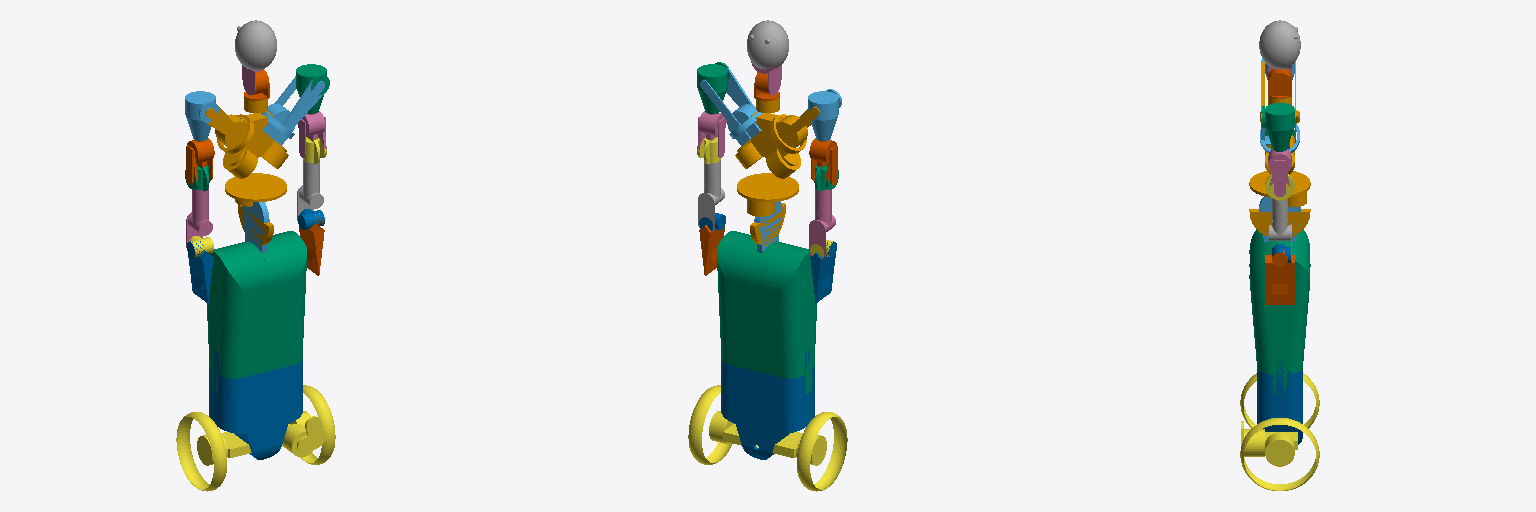
--- What the picture shows (computed from the rendered views, not written in the file) ---
Views: 3 orthographic renders of the robot side by side, from view 1: azimuth 30°, elevation 25°; view 2: azimuth 150°, elevation 25°; view 3: azimuth 270°, elevation 25°.
Model pre-robody with 23 links and 22 joints (17 revolute, 5 fixed), rooted at WheelBase, posed every joint at zero.
Links seen in each view (by area): view 1: UpperLeg, LowerLeg, WheelBase, Torso, Spine, Shoulder_1_Right, Head, Shoulder_1_Left, Shoulder_2_Left, EndEffector_Left, LowerArm_Right, LowerArm_Left (+5 smaller); view 2: UpperLeg, LowerLeg, WheelBase, Spine, Torso, Shoulder_1_Right, Head, Shoulder_1_Left, Shoulder_2_Left, LowerArm_Right, LowerArm_Left, Shoulder_2_Right (+4 smaller); view 3: UpperLeg, WheelBase, LowerLeg, Spine, Head, EndEffector_Right, Shoulder_2_Right, UpperArm_Right, LowerArm_Right, NeckSegment_1.
Boxes of the visible links, box(x1,y1,x2,y2) form: UpperLeg: box(207, 231, 306, 393); LowerLeg: box(209, 350, 302, 459); WheelBase: box(176, 385, 335, 491); Torso: box(223, 98, 288, 201); Spine: box(225, 173, 286, 244); Shoulder_1_Right: box(261, 76, 324, 145); Head: box(235, 20, 276, 70); Shoulder_1_Left: box(205, 106, 257, 155); Shoulder_2_Left: box(185, 91, 218, 140); EndEffector_Left: box(187, 241, 213, 302); LowerArm_Right: box(297, 160, 323, 220); LowerArm_Left: box(186, 188, 212, 247); UpperLeg: box(717, 231, 816, 393); LowerLeg: box(721, 350, 814, 459); WheelBase: box(688, 385, 847, 491); Spine: box(737, 173, 798, 245); Torso: box(735, 98, 800, 201); Shoulder_1_Right: box(700, 68, 762, 145); Head: box(747, 20, 788, 69); Shoulder_1_Left: box(765, 107, 819, 155); Shoulder_2_Left: box(808, 89, 841, 140); LowerArm_Right: box(698, 160, 724, 231); LowerArm_Left: box(809, 188, 835, 259); Shoulder_2_Right: box(697, 62, 729, 113); UpperLeg: box(1249, 229, 1310, 393); WheelBase: box(1240, 373, 1319, 490); LowerLeg: box(1257, 356, 1302, 444); Spine: box(1249, 171, 1310, 236); Head: box(1259, 20, 1300, 69); EndEffector_Right: box(1265, 250, 1294, 304); Shoulder_2_Right: box(1262, 103, 1294, 151); UpperArm_Right: box(1268, 149, 1291, 196); LowerArm_Right: box(1269, 198, 1291, 263); NeckSegment_1: box(1268, 69, 1291, 98).
Size in the robot's own frame: 0.508 by 0.2599 by 1.6 metres.
Meshes: 23 distinct files referenced, 23 mesh visuals loaded (23 binary STL).

robot.urdf — pre-robody:
<?xml version="1.0" ?>
<robot name="pre-robody">
  <joint name="Ankle_Y" type="fixed">
    <parent link="WheelBase"/>
    <child link="LowerLeg"/>
    <origin xyz="0 0 0" rpy="0 0 0"/>
    <axis xyz="0 1 0"/>
    <limit lower="-0.17453292519943295" upper="0.17453292519943295" effort="0.0" velocity="0.0"/>
  </joint>
  <joint name="Knee_X" type="fixed">
    <parent link="LowerLeg"/>
    <child link="UpperLeg"/>
    <origin xyz="0.15 0   0.27" rpy="0 0 0"/>
    <axis xyz="1 0 0"/>
    <limit lower="-0.0" upper="2.0943951023931953" effort="0.0" velocity="0.0"/>
  </joint>
  <joint name="Hip_X_Lower" type="fixed">
    <parent link="UpperLeg"/>
    <child link="Hip"/>
    <origin xyz="-0.14  0    0.32" rpy="0 0 0"/>
    <axis xyz="1 0 0"/>
    <limit lower="-1.5707963267948966" upper="0.04363323129985824" effort="0.0" velocity="0.0"/>
  </joint>
  <joint name="Hip_X_Upper" type="fixed">
    <parent link="Hip"/>
    <child link="Spine"/>
    <origin xyz="0  0  0.2" rpy="0 0 0"/>
    <axis xyz="-1  0  0"/>
    <limit lower="-0.0" upper="1.5707963267948966" effort="0.0" velocity="0.0"/>
  </joint>
  <joint name="Spine-Torso_Z" type="fixed">
    <parent link="Spine"/>
    <child link="Torso"/>
    <origin xyz="-0.01  0    0.1" rpy="0 0 0"/>
    <axis xyz="0 0 1"/>
    <limit lower="-1.0471975511965976" upper="1.0471975511965976" effort="0.0" velocity="0.0"/>
  </joint>
  <joint name="Neck1_Z" type="revolute">
    <parent link="Torso"/>
    <child link="NeckSegment_1"/>
    <origin xyz="0      0      0.32038" rpy="0 0 0"/>
    <axis xyz="0 0 1"/>
    <limit lower="-1.5707963267948966" upper="1.5707963267948966" effort="0.0" velocity="0.0"/>
  </joint>
  <joint name="Neck2_X" type="revolute">
    <parent link="NeckSegment_1"/>
    <child link="NeckSegment_2"/>
    <origin xyz="-0.02225  0       0.0495" rpy="0 0 0"/>
    <axis xyz="1 0 0"/>
    <limit lower="-1.0471975511965976" upper="0.7853981633974483" effort="0.0" velocity="0.0"/>
  </joint>
  <joint name="Neck3_Y" type="revolute">
    <parent link="NeckSegment_2"/>
    <child link="Head"/>
    <origin xyz="0.02225 -0.02225  0.084" rpy="0 0 0"/>
    <axis xyz="0 -1  0"/>
    <limit lower="-0.2617993877991494" upper="0.2617993877991494" effort="0.0" velocity="0.0"/>
  </joint>
  <joint name="Shoulder2_Right" type="revolute">
    <parent link="Shoulder_1_Right"/>
    <child link="Shoulder_2_Right"/>
    <origin xyz="0.16754 -0.058    0.16754" rpy="0 0 0"/>
    <axis xyz="0 1 0"/>
    <limit lower="-2.0943951023931953" upper="0.0" effort="0.0" velocity="0.0"/>
  </joint>
  <joint name="Shoulder1_Right" type="revolute">
    <parent link="Torso"/>
    <child link="Shoulder_1_Right"/>
    <origin xyz="0.03745 0      0.16445" rpy="0 0 0"/>
    <axis xyz="-0.7071  0     -0.7071"/>
    <limit lower="-2.6179938779914944" upper="0.7853981633974483" effort="0.0" velocity="0.0"/>
  </joint>
  <joint name="Shoulder3_Right" type="revolute">
    <parent link="Shoulder_2_Right"/>
    <child link="UpperArm_Right"/>
    <origin xyz="0     0.058 -0.029" rpy="0 0 0"/>
    <axis xyz="0  0 -1"/>
    <limit lower="-1.5707963267948966" upper="1.5707963267948966" effort="0.0" velocity="0.0"/>
  </joint>
  <joint name="Elbow1_X_Right" type="revolute">
    <parent link="UpperArm_Right"/>
    <child link="ElbowSegment_Right"/>
    <origin xyz="0.037   0     -0.2206" rpy="0 0 0"/>
    <axis xyz="-1  0  0"/>
    <limit lower="-2.2689280275926285" upper="0.0" effort="0.0" velocity="0.0"/>
  </joint>
  <joint name="Elbow2_Z_Right" type="revolute">
    <parent link="ElbowSegment_Right"/>
    <child link="LowerArm_Right"/>
    <origin xyz="-0.037    0      -0.03535" rpy="0 0 0"/>
    <axis xyz="0 0 1"/>
    <limit lower="-1.5707963267948966" upper="1.5707963267948966" effort="0.0" velocity="0.0"/>
  </joint>
  <joint name="Wrist1_Y_Right" type="revolute">
    <parent link="LowerArm_Right"/>
    <child link="Wrist_Right"/>
    <origin xyz="0       0.04034 -0.21425" rpy="0 0 0"/>
    <axis xyz="0 -1  0"/>
    <limit lower="-0.6981317007977318" upper="0.5235987755982988" effort="0.0" velocity="0.0"/>
  </joint>
  <joint name="Wrist2_X_Right" type="revolute">
    <parent link="Wrist_Right"/>
    <child link="EndEffector_Right"/>
    <origin xyz="0.03535 -0.04034  0" rpy="0 0 0"/>
    <axis xyz="-1  0  0"/>
    <limit lower="-0.3490658503988659" upper="0.6981317007977318" effort="0.0" velocity="0.0"/>
  </joint>
  <joint name="Shoulder1_Left" type="revolute">
    <parent link="Torso"/>
    <child link="Shoulder_1_Left"/>
    <origin xyz="-0.03745  0       0.16445" rpy="0 0 0"/>
    <axis xyz="-0.7071  0      0.7071"/>
    <limit lower="-2.6179938779914944" upper="0.7853981633974483" effort="0.0" velocity="0.0"/>
  </joint>
  <joint name="Shoulder2_Left" type="revolute">
    <parent link="Shoulder_1_Left"/>
    <child link="Shoulder_2_Left"/>
    <origin xyz="-0.16754 -0.058    0.16754" rpy="0 0 0"/>
    <axis xyz="0 -1  0"/>
    <limit lower="-2.0943951023931953" upper="0.0" effort="0.0" velocity="0.0"/>
  </joint>
  <joint name="Shoulder3_Left" type="revolute">
    <parent link="Shoulder_2_Left"/>
    <child link="UpperArm_Left"/>
    <origin xyz="0     0.058 -0.029" rpy="0 0 0"/>
    <axis xyz="0 0 1"/>
    <limit lower="-1.5707963267948966" upper="1.5707963267948966" effort="0.0" velocity="0.0"/>
  </joint>
  <joint name="Elbow1_X_Left" type="revolute">
    <parent link="UpperArm_Left"/>
    <child link="ElbowSegment_Left"/>
    <origin xyz="-0.037   0     -0.2206" rpy="0 0 0"/>
    <axis xyz="-1  0  0"/>
    <limit lower="-2.2689280275926285" upper="0.0" effort="0.0" velocity="0.0"/>
  </joint>
  <joint name="Elbow2_Z_Left" type="revolute">
    <parent link="ElbowSegment_Left"/>
    <child link="LowerArm_Left"/>
    <origin xyz="0.037    0      -0.03535" rpy="0 0 0"/>
    <axis xyz="0  0 -1"/>
    <limit lower="-1.5707963267948966" upper="1.5707963267948966" effort="0.0" velocity="0.0"/>
  </joint>
  <joint name="Wrist1_Y_Left" type="revolute">
    <parent link="LowerArm_Left"/>
    <child link="Wrist_Left"/>
    <origin xyz="0       0.04034 -0.21425" rpy="0 0 0"/>
    <axis xyz="0 1 0"/>
    <limit lower="-0.6981317007977318" upper="0.5235987755982988" effort="0.0" velocity="0.0"/>
  </joint>
  <joint name="Wrist2_X_Left" type="revolute">
    <parent link="Wrist_Left"/>
    <child link="EndEffector_Left"/>
    <origin xyz="-0.03535 -0.04034  0" rpy="0 0 0"/>
    <axis xyz="-1  0  0"/>
    <limit lower="-0.3490658503988659" upper="0.6981317007977318" effort="0.0" velocity="0.0"/>
  </joint>
  <link name="Torso">
    <inertial>
      <mass value="8.970094968407071"/>
      <origin xyz="0 0 0" rpy="0 0 0"/>
      <inertia ixx="10.129081272648332" ixy="-3.9277892939082764e-19" ixz="2.4057895143143707e-12" iyy="10.138941947590036" iyz="5.0844922514974945e-17" izz="0.015187827236129511"/>
    </inertial>
    <collision name="Torso_collision">
      <origin xyz="0      0      0.17105" rpy="0 0 0"/>
      <geometry>
        <mesh filename="package://roboy3_models/pre-robody/meshes/CAD/Torso.stl" scale="0.001 0.001 0.001"/>
      </geometry>
    </collision>
    <visual name="Torso_visual">
      <origin xyz="0      0      0.17105" rpy="0 0 0"/>
      <geometry>
        <mesh filename="package://roboy3_models/pre-robody/meshes/CAD/Torso.stl" scale="0.001 0.001 0.001"/>
      </geometry>
    </visual>
  </link>
  <link name="Shoulder_1_Right">
    <inertial>
      <mass value="0.9004482327815297"/>
      <origin xyz="0 0 0" rpy="0 0 0"/>
      <inertia ixx="1.0883647363354698" ixy="5.324674680686329e-07" ixz="-0.08115161098796815" iyy="1.0947081518019737" iyz="3.997580677009343e-06" izz="0.006849598056846516"/>
    </inertial>
    <collision name="Shoulder_1_Right_collision">
      <origin xyz="0.04455 0      0.04455" rpy="0 0 0"/>
      <geometry>
        <mesh filename="package://roboy3_models/pre-robody/meshes/CAD/Shoulder_1_Right.stl" scale="0.001 0.001 0.001"/>
      </geometry>
    </collision>
    <visual name="Shoulder_1_Right_visual">
      <origin xyz="0.04455 0      0.04455" rpy="0 0 0"/>
      <geometry>
        <mesh filename="package://roboy3_models/pre-robody/meshes/CAD/Shoulder_1_Right.stl" scale="0.001 0.001 0.001"/>
      </geometry>
    </visual>
  </link>
  <link name="Shoulder_2_Right">
    <inertial>
      <mass value="0.9002392747332185"/>
      <origin xyz="0 0 0" rpy="0 0 0"/>
      <inertia ixx="1.3450757052257027" ixy="4.5584517258437846e-07" ixz="-0.22551634621043887" iyy="1.382908154367689" iyz="2.717281955554151e-06" izz="0.03891336638943579"/>
    </inertial>
    <collision name="Shoulder_2_Right_collision">
      <origin xyz="0.000e+00  5.799e-02 -1.000e-05" rpy="0 0 0"/>
      <geometry>
        <mesh filename="package://roboy3_models/pre-robody/meshes/CAD/Shoulder_2_Right.stl" scale="0.001 0.001 0.001"/>
      </geometry>
    </collision>
    <visual name="Shoulder_2_Right_visual">
      <origin xyz="0.000e+00  5.799e-02 -1.000e-05" rpy="0 0 0"/>
      <geometry>
        <mesh filename="package://roboy3_models/pre-robody/meshes/CAD/Shoulder_2_Right.stl" scale="0.001 0.001 0.001"/>
      </geometry>
    </visual>
  </link>
  <link name="ElbowSegment_Right">
    <inertial>
      <mass value="0.3000738273336225"/>
      <origin xyz="0 0 0" rpy="0 0 0"/>
      <inertia ixx="0.2839146411405186" ixy="-1.6717014372883148e-13" ixz="-0.059818688902899146" iyy="0.2965257867468056" iyz="-7.938319008747499e-13" izz="0.012712653951093063"/>
    </inertial>
    <collision name="ElbowSegment_Right_collision">
      <origin xyz="-0.03699  0       0" rpy="0 0 0"/>
      <geometry>
        <mesh filename="package://roboy3_models/pre-robody/meshes/CAD/ElbowSegment_Right.stl" scale="0.001 0.001 0.001"/>
      </geometry>
    </collision>
    <visual name="ElbowSegment_Right_visual">
      <origin xyz="-0.03699  0       0" rpy="0 0 0"/>
      <geometry>
        <mesh filename="package://roboy3_models/pre-robody/meshes/CAD/ElbowSegment_Right.stl" scale="0.001 0.001 0.001"/>
      </geometry>
    </visual>
  </link>
  <link name="Wrist_Right">
    <inertial>
      <mass value="0.30009606885046797"/>
      <origin xyz="0 0 0" rpy="0 0 0"/>
      <inertia ixx="0.15688361309042698" ixy="-4.2529351271320555e-07" ixz="-0.044466434906187735" iyy="0.16956937252836696" iyz="-1.4995226877910244e-06" izz="0.01278726877271213"/>
    </inertial>
    <collision name="Wrist_Right_collision">
      <origin xyz="0      -0.04034  0" rpy="0 0 0"/>
      <geometry>
        <mesh filename="package://roboy3_models/pre-robody/meshes/CAD/Wrist_Right.stl" scale="0.001 0.001 0.001"/>
      </geometry>
    </collision>
    <visual name="Wrist_Right_visual">
      <origin xyz="0      -0.04034  0" rpy="0 0 0"/>
      <geometry>
        <mesh filename="package://roboy3_models/pre-robody/meshes/CAD/Wrist_Right.stl" scale="0.001 0.001 0.001"/>
      </geometry>
    </visual>
  </link>
  <link name="EndEffector_Right">
    <inertial>
      <mass value="1.0005084735894825"/>
      <origin xyz="0 0 0" rpy="0 0 0"/>
      <inertia ixx="0.40170482223213305" ixy="-2.752130152580535e-20" ixz="-0.12979456227373998" iyy="0.44357649539364324" iyz="1.707033291190246e-21" izz="0.04228908651285314"/>
    </inertial>
    <collision name="EndEffector_Right_collision">
      <origin xyz="-0.03534  0      -0.08998" rpy="0 0 0"/>
      <geometry>
        <mesh filename="package://roboy3_models/pre-robody/meshes/CAD/EndEffector_Right.stl" scale="0.001 0.001 0.001"/>
      </geometry>
    </collision>
    <visual name="EndEffector_Right_visual">
      <origin xyz="-0.03534  0      -0.08998" rpy="0 0 0"/>
      <geometry>
        <mesh filename="package://roboy3_models/pre-robody/meshes/CAD/EndEffector_Right.stl" scale="0.001 0.001 0.001"/>
      </geometry>
    </visual>
  </link>
  <link name="UpperArm_Right">
    <inertial>
      <mass value="1.100185489481107"/>
      <origin xyz="0 0 0" rpy="0 0 0"/>
      <inertia ixx="1.2233577434051586" ixy="-2.533797290843379e-19" ixz="-0.23775416672999847" iyy="1.2694696278826019" iyz="-3.4316810476747225e-19" izz="0.046753465634248176"/>
    </inertial>
    <collision name="UpperArm_Right_collision">
      <origin xyz="0       0      -0.13884" rpy="0 0 0"/>
      <geometry>
        <mesh filename="package://roboy3_models/pre-robody/meshes/CAD/UpperArm_Right.stl" scale="0.001 0.001 0.001"/>
      </geometry>
    </collision>
    <visual name="UpperArm_Right_visual">
      <origin xyz="0       0      -0.13884" rpy="0 0 0"/>
      <geometry>
        <mesh filename="package://roboy3_models/pre-robody/meshes/CAD/UpperArm_Right.stl" scale="0.001 0.001 0.001"/>
      </geometry>
    </visual>
  </link>
  <link name="LowerArm_Right">
    <inertial>
      <mass value="0.4003705013642328"/>
      <origin xyz="0 0 0" rpy="0 0 0"/>
      <inertia ixx="0.2656626968642574" ixy="-2.725989287861553e-07" ixz="-0.06681349922857352" iyy="0.2823964679388355" iyz="-1.0336258071510531e-06" izz="0.01702557305708129"/>
    </inertial>
    <collision name="LowerArm_Right_collision">
      <origin xyz="0     0    -0.123" rpy="0 0 0"/>
      <geometry>
        <mesh filename="package://roboy3_models/pre-robody/meshes/CAD/LowerArm_Right.stl" scale="0.001 0.001 0.001"/>
      </geometry>
    </collision>
    <visual name="LowerArm_Right_visual">
      <origin xyz="0     0    -0.123" rpy="0 0 0"/>
      <geometry>
        <mesh filename="package://roboy3_models/pre-robody/meshes/CAD/LowerArm_Right.stl" scale="0.001 0.001 0.001"/>
      </geometry>
    </visual>
  </link>
  <link name="Spine">
    <inertial>
      <mass value="1.230955758859922"/>
      <origin xyz="0 0 0" rpy="0 0 0"/>
      <inertia ixx="0.9049897617747702" ixy="-1.5360494323516385e-18" ixz="-1.659758917771337e-19" iyy="0.9024976734257476" iyz="-0.047373532675433865" izz="0.003739577816740012"/>
    </inertial>
    <collision name="Spine_collision">
      <origin xyz="-0.01     0.04497  0.06572" rpy="0 0 0"/>
      <geometry>
        <mesh filename="package://roboy3_models/pre-robody/meshes/CAD/Spine.stl" scale="0.001 0.001 0.001"/>
      </geometry>
    </collision>
    <visual name="Spine_visual">
      <origin xyz="-0.01     0.04497  0.06572" rpy="0 0 0"/>
      <geometry>
        <mesh filename="package://roboy3_models/pre-robody/meshes/CAD/Spine.stl" scale="0.001 0.001 0.001"/>
      </geometry>
    </visual>
  </link>
  <link name="Hip">
    <inertial>
      <mass value="0.0007426444392122731"/>
      <origin xyz="0 0 0" rpy="0 0 0"/>
      <inertia ixx="0.0003933992069260796" ixy="2.7284841053187847e-23" ixz="3.4694469519536144e-22" iyy="0.00039264545542505325" iyz="-2.1977657675020456e-21" izz="8.032611303071327e-07"/>
    </inertial>
    <collision name="Hip_collision">
      <origin xyz="-0.01     0       0.13274" rpy="0 0 0"/>
      <geometry>
        <mesh filename="package://roboy3_models/pre-robody/meshes/CAD/Hip.stl" scale="0.001 0.001 0.001"/>
      </geometry>
    </collision>
    <visual name="Hip_visual">
      <origin xyz="-0.01     0       0.13274" rpy="0 0 0"/>
      <geometry>
        <mesh filename="package://roboy3_models/pre-robody/meshes/CAD/Hip.stl" scale="0.001 0.001 0.001"/>
      </geometry>
    </visual>
  </link>
  <link name="UpperLeg">
    <inertial>
      <mass value="13.258820904655748"/>
      <origin xyz="0 0 0" rpy="0 0 0"/>
      <inertia ixx="2.562174249380149" ixy="-3.0694541942608955e-18" ixz="8.65052356783935e-16" iyy="2.5687535492066105" iyz="1.13990351066504e-09" izz="0.013691062518343006"/>
    </inertial>
    <collision name="UpperLeg_collision">
      <origin xyz="-0.15     0       0.16005" rpy="0 0 0"/>
      <geometry>
        <mesh filename="package://roboy3_models/pre-robody/meshes/CAD/UpperLeg.stl" scale="0.001 0.001 0.001"/>
      </geometry>
    </collision>
    <visual name="UpperLeg_visual">
      <origin xyz="-0.15     0       0.16005" rpy="0 0 0"/>
      <geometry>
        <mesh filename="package://roboy3_models/pre-robody/meshes/CAD/UpperLeg.stl" scale="0.001 0.001 0.001"/>
      </geometry>
    </visual>
  </link>
  <link name="WheelBase">
    <inertial>
      <mass value="3.0315319231928965"/>
      <origin xyz="0 0 0" rpy="0 0 0"/>
      <inertia ixx="0.011794320984290022" ixy="0.011267737897951604" ixz="-4.062084224902013e-07" iyy="0.06438416876177741" iyz="3.4412893143095156e-07" izz="0.07277145438078707"/>
    </inertial>
    <collision name="WheelBase_collision">
      <origin xyz="0.04464 -0.03378  0" rpy="0 0 0"/>
      <geometry>
        <mesh filename="package://roboy3_models/pre-robody/meshes/CAD/WheelBase.stl" scale="0.001 0.001 0.001"/>
      </geometry>
    </collision>
    <visual name="WheelBase_visual">
      <origin xyz="0.04464 -0.03378  0" rpy="0 0 0"/>
      <geometry>
        <mesh filename="package://roboy3_models/pre-robody/meshes/CAD/WheelBase.stl" scale="0.001 0.001 0.001"/>
      </geometry>
    </visual>
  </link>
  <link name="LowerLeg">
    <inertial>
      <mass value="19.75573876968384"/>
      <origin xyz="0 0 0" rpy="0 0 0"/>
      <inertia ixx="0.4409565635513829" ixy="1.118528697073841e-12" ixz="7.907382534958906e-12" iyy="0.44102522644730746" iyz="3.98523973740306e-10" izz="0.033021809084681546"/>
    </inertial>
    <collision name="LowerLeg_collision">
      <origin xyz="0      0      0.13503" rpy="0 0 0"/>
      <geometry>
        <mesh filename="package://roboy3_models/pre-robody/meshes/CAD/LowerLeg.stl" scale="0.001 0.001 0.001"/>
      </geometry>
    </collision>
    <visual name="LowerLeg_visual">
      <origin xyz="0      0      0.13503" rpy="0 0 0"/>
      <geometry>
        <mesh filename="package://roboy3_models/pre-robody/meshes/CAD/LowerLeg.stl" scale="0.001 0.001 0.001"/>
      </geometry>
    </visual>
  </link>
  <link name="NeckSegment_1">
    <inertial>
      <mass value="0.4899729395837812"/>
      <origin xyz="0 0 0" rpy="0 0 0"/>
      <inertia ixx="0.778116285321031" ixy="1.5319969749931367e-19" ixz="-1.1266648286142357e-06" iyy="0.7780060407998559" iyz="-3.318694466042247e-18" izz="0.00027200191835143083"/>
    </inertial>
    <collision name="NeckSegment_1_collision">
      <origin xyz="0      0      0.04949" rpy="0 0 0"/>
      <geometry>
        <mesh filename="package://roboy3_models/pre-robody/meshes/CAD/NeckSegment_1.stl" scale="0.001 0.001 0.001"/>
      </geometry>
    </collision>
    <visual name="NeckSegment_1_visual">
      <origin xyz="0      0      0.04949" rpy="0 0 0"/>
      <geometry>
        <mesh filename="package://roboy3_models/pre-robody/meshes/CAD/NeckSegment_1.stl" scale="0.001 0.001 0.001"/>
      </geometry>
    </visual>
  </link>
  <link name="NeckSegment_2">
    <inertial>
      <mass value="0.49004862549611355"/>
      <origin xyz="0 0 0" rpy="0 0 0"/>
      <inertia ixx="0.8853044316450557" ixy="-1.2599095258347055e-17" ixz="1.257498702360325e-06" iyy="0.8854146272599565" iyz="-4.210010996461845e-06" izz="0.00027212161944695814"/>
    </inertial>
    <collision name="NeckSegment_2_collision">
      <origin xyz="0.02224 0      0.08399" rpy="0 0 0"/>
      <geometry>
        <mesh filename="package://roboy3_models/pre-robody/meshes/CAD/NeckSegment_2.stl" scale="0.001 0.001 0.001"/>
      </geometry>
    </collision>
    <visual name="NeckSegment_2_visual">
      <origin xyz="0.02224 0      0.08399" rpy="0 0 0"/>
      <geometry>
        <mesh filename="package://roboy3_models/pre-robody/meshes/CAD/NeckSegment_2.stl" scale="0.001 0.001 0.001"/>
      </geometry>
    </visual>
  </link>
  <link name="Head">
    <inertial>
      <mass value="1.0216809032657195"/>
      <origin xyz="0 0 0" rpy="0 0 0"/>
      <inertia ixx="1.9188046562991201" ixy="-4.906284564637788e-11" ixz="8.49855576312334e-09" iyy="1.9186260882362356" iyz="-3.3874153193446773e-07" izz="0.00024997389954786107"/>
    </inertial>
    <collision name="Head_collision">
      <origin xyz="0      0.02225 0.02615" rpy="0 0 0"/>
      <geometry>
        <mesh filename="package://roboy3_models/pre-robody/meshes/CAD/Head.stl" scale="0.001 0.001 0.001"/>
      </geometry>
    </collision>
    <visual name="Head_visual">
      <origin xyz="0      0.02225 0.02615" rpy="0 0 0"/>
      <geometry>
        <mesh filename="package://roboy3_models/pre-robody/meshes/CAD/Head.stl" scale="0.001 0.001 0.001"/>
      </geometry>
    </visual>
  </link>
  <link name="Shoulder_1_Left">
    <inertial>
      <mass value="0.9004482327815297"/>
      <origin xyz="0 0 0" rpy="0 0 0"/>
      <inertia ixx="1.0883647363354698" ixy="-5.324674680682587e-07" ixz="0.08115161098796815" iyy="1.0947081518019737" iyz="3.997580677108665e-06" izz="0.006849598056846515"/>
    </inertial>
    <collision name="Shoulder_1_Left_collision">
      <origin xyz="-0.04455  0       0.04455" rpy="0 0 0"/>
      <geometry>
        <mesh filename="package://roboy3_models/pre-robody/meshes/CAD/Shoulder_1_Left.stl" scale="0.001 0.001 0.001"/>
      </geometry>
    </collision>
    <visual name="Shoulder_1_Left_visual">
      <origin xyz="-0.04455  0       0.04455" rpy="0 0 0"/>
      <geometry>
        <mesh filename="package://roboy3_models/pre-robody/meshes/CAD/Shoulder_1_Left.stl" scale="0.001 0.001 0.001"/>
      </geometry>
    </visual>
  </link>
  <link name="Shoulder_2_Left">
    <inertial>
      <mass value="0.9002392747332185"/>
      <origin xyz="0 0 0" rpy="0 0 0"/>
      <inertia ixx="1.3450757052257027" ixy="-4.558451725843775e-07" ixz="0.22551634621043887" iyy="1.382908154367689" iyz="2.717281955554151e-06" izz="0.03891336638943579"/>
    </inertial>
    <collision name="Shoulder_2_Left_collision">
      <origin xyz="0.000e+00  5.799e-02 -1.000e-05" rpy="0 0 0"/>
      <geometry>
        <mesh filename="package://roboy3_models/pre-robody/meshes/CAD/Shoulder_2_Left.stl" scale="0.001 0.001 0.001"/>
      </geometry>
    </collision>
    <visual name="Shoulder_2_Left_visual">
      <origin xyz="0.000e+00  5.799e-02 -1.000e-05" rpy="0 0 0"/>
      <geometry>
        <mesh filename="package://roboy3_models/pre-robody/meshes/CAD/Shoulder_2_Left.stl" scale="0.001 0.001 0.001"/>
      </geometry>
    </visual>
  </link>
  <link name="ElbowSegment_Left">
    <inertial>
      <mass value="0.3000738273336225"/>
      <origin xyz="0 0 0" rpy="0 0 0"/>
      <inertia ixx="0.2839146411405186" ixy="1.6717007559517276e-13" ixz="0.059818688902899146" iyy="0.2965257867468056" iyz="-7.938319008747499e-13" izz="0.012712653951093063"/>
    </inertial>
    <collision name="ElbowSegment_Left_collision">
      <origin xyz="0.03699 0      0" rpy="0 0 0"/>
      <geometry>
        <mesh filename="package://roboy3_models/pre-robody/meshes/CAD/ElbowSegment_Left.stl" scale="0.001 0.001 0.001"/>
      </geometry>
    </collision>
    <visual name="ElbowSegment_Left_visual">
      <origin xyz="0.03699 0      0" rpy="0 0 0"/>
      <geometry>
        <mesh filename="package://roboy3_models/pre-robody/meshes/CAD/ElbowSegment_Left.stl" scale="0.001 0.001 0.001"/>
      </geometry>
    </visual>
  </link>
  <link name="Wrist_Left">
    <inertial>
      <mass value="0.30009606885046797"/>
      <origin xyz="0 0 0" rpy="0 0 0"/>
      <inertia ixx="0.15688361309042698" ixy="4.252935127131147e-07" ixz="0.044466434906187735" iyy="0.16956937252836696" iyz="-1.4995226877910244e-06" izz="0.01278726877271213"/>
    </inertial>
    <collision name="Wrist_Left_collision">
      <origin xyz="0      -0.04034  0" rpy="0 0 0"/>
      <geometry>
        <mesh filename="package://roboy3_models/pre-robody/meshes/CAD/Wrist_Left.stl" scale="0.001 0.001 0.001"/>
      </geometry>
    </collision>
    <visual name="Wrist_Left_visual">
      <origin xyz="0      -0.04034  0" rpy="0 0 0"/>
      <geometry>
        <mesh filename="package://roboy3_models/pre-robody/meshes/CAD/Wrist_Left.stl" scale="0.001 0.001 0.001"/>
      </geometry>
    </visual>
  </link>
  <link name="EndEffector_Left">
    <inertial>
      <mass value="1.0005084735894811"/>
      <origin xyz="0 0 0" rpy="0 0 0"/>
      <inertia ixx="0.40170482223213494" ixy="2.842170943040401e-20" ixz="0.12979456227373973" iyy="0.4435764953936404" iyz="-2.278102329000831e-19" izz="0.042289086512857704"/>
    </inertial>
    <collision name="EndEffector_Left_collision">
      <origin xyz="0.03534  0      -0.08998" rpy="0 0 0"/>
      <geometry>
        <mesh filename="package://roboy3_models/pre-robody/meshes/CAD/EndEffector_Left.stl" scale="0.001 0.001 0.001"/>
      </geometry>
    </collision>
    <visual name="EndEffector_Left_visual">
      <origin xyz="0.03534  0      -0.08998" rpy="0 0 0"/>
      <geometry>
        <mesh filename="package://roboy3_models/pre-robody/meshes/CAD/EndEffector_Left.stl" scale="0.001 0.001 0.001"/>
      </geometry>
    </visual>
  </link>
  <link name="UpperArm_Left">
    <inertial>
      <mass value="1.1001854894811083"/>
      <origin xyz="0 0 0" rpy="0 0 0"/>
      <inertia ixx="1.2233577434053413" ixy="-1.0651913129692195e-18" ixz="0.2377541667299987" iyy="1.2694696278826032" iyz="5.6218868200507745e-18" izz="0.04675346563442945"/>
    </inertial>
    <collision name="UpperArm_Left_collision">
      <origin xyz="0       0      -0.13884" rpy="0 0 0"/>
      <geometry>
        <mesh filename="package://roboy3_models/pre-robody/meshes/CAD/UpperArm_Left.stl" scale="0.001 0.001 0.001"/>
      </geometry>
    </collision>
    <visual name="UpperArm_Left_visual">
      <origin xyz="0       0      -0.13884" rpy="0 0 0"/>
      <geometry>
        <mesh filename="package://roboy3_models/pre-robody/meshes/CAD/UpperArm_Left.stl" scale="0.001 0.001 0.001"/>
      </geometry>
    </visual>
  </link>
  <link name="LowerArm_Left">
    <inertial>
      <mass value="0.40037050136423274"/>
      <origin xyz="0 0 0" rpy="0 0 0"/>
      <inertia ixx="0.26566269686434224" ixy="2.725989287862498e-07" ixz="0.0668134992285735" iyy="0.28239646793892026" iyz="-1.0336258071510987e-06" izz="0.017025573057081286"/>
    </inertial>
    <collision name="LowerArm_Left_collision">
      <origin xyz="0     0    -0.123" rpy="0 0 0"/>
      <geometry>
        <mesh filename="package://roboy3_models/pre-robody/meshes/CAD/LowerArm_Left.stl" scale="0.001 0.001 0.001"/>
      </geometry>
    </collision>
    <visual name="LowerArm_Left_visual">
      <origin xyz="0     0    -0.123" rpy="0 0 0"/>
      <geometry>
        <mesh filename="package://roboy3_models/pre-robody/meshes/CAD/LowerArm_Left.stl" scale="0.001 0.001 0.001"/>
      </geometry>
    </visual>
  </link>
</robot>
